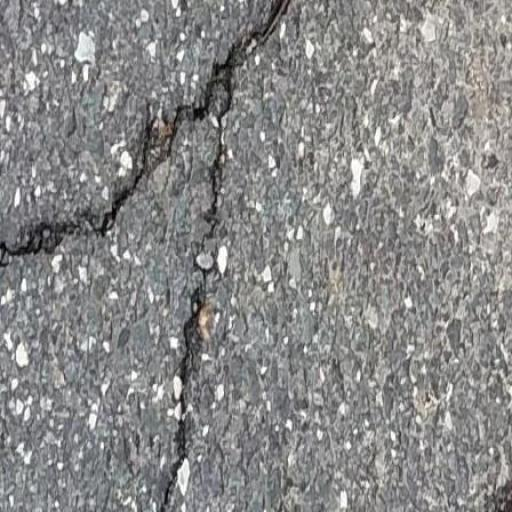spalling: (7, 0, 299, 264), (161, 134, 235, 509)
